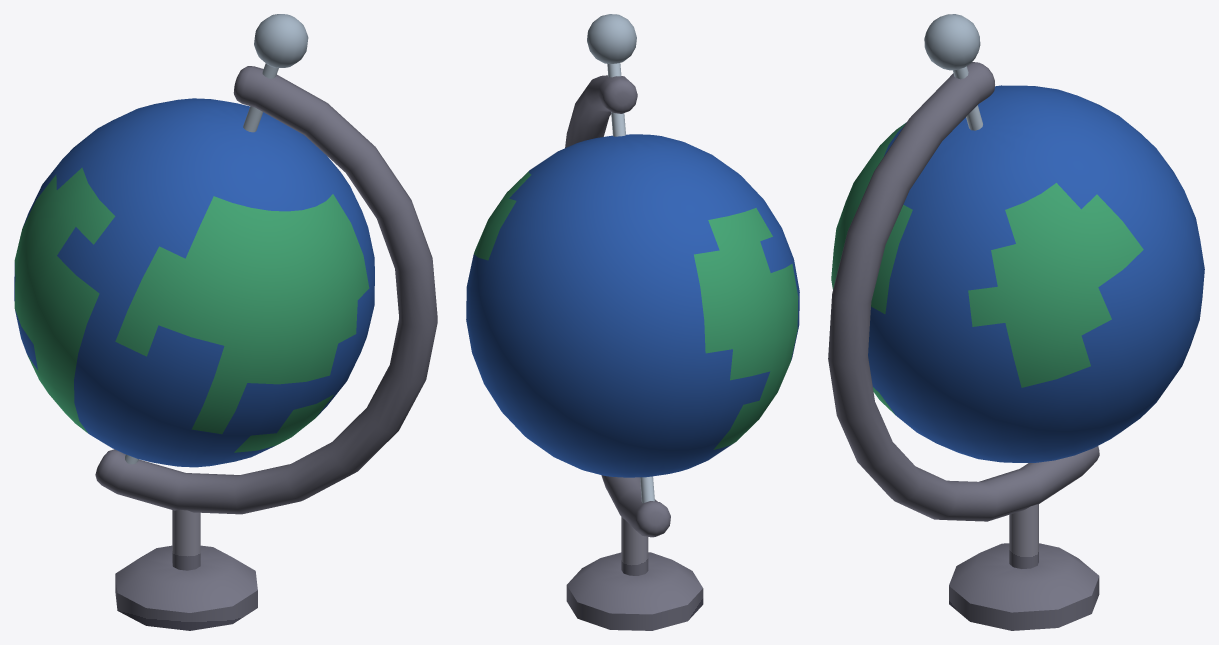
Rendered from mundi.fbx.
3 views of the same model, side by side, from view 1: azimuth 30°, elevation 25°; view 2: azimuth 150°, elevation 25°; view 3: azimuth 270°, elevation 25° (orthographic). The views are drawn at different scales.
Visible parts, largest first — view 1: mundi; view 2: mundi; view 3: mundi.
Part boxes in pixels (x1,y1,x2,y2): mundi: (14,14,437,630); mundi: (466,14,799,630); mundi: (828,14,1204,630).
Bounding box in the file's own units: 74.53 × 134 × 74.89.
